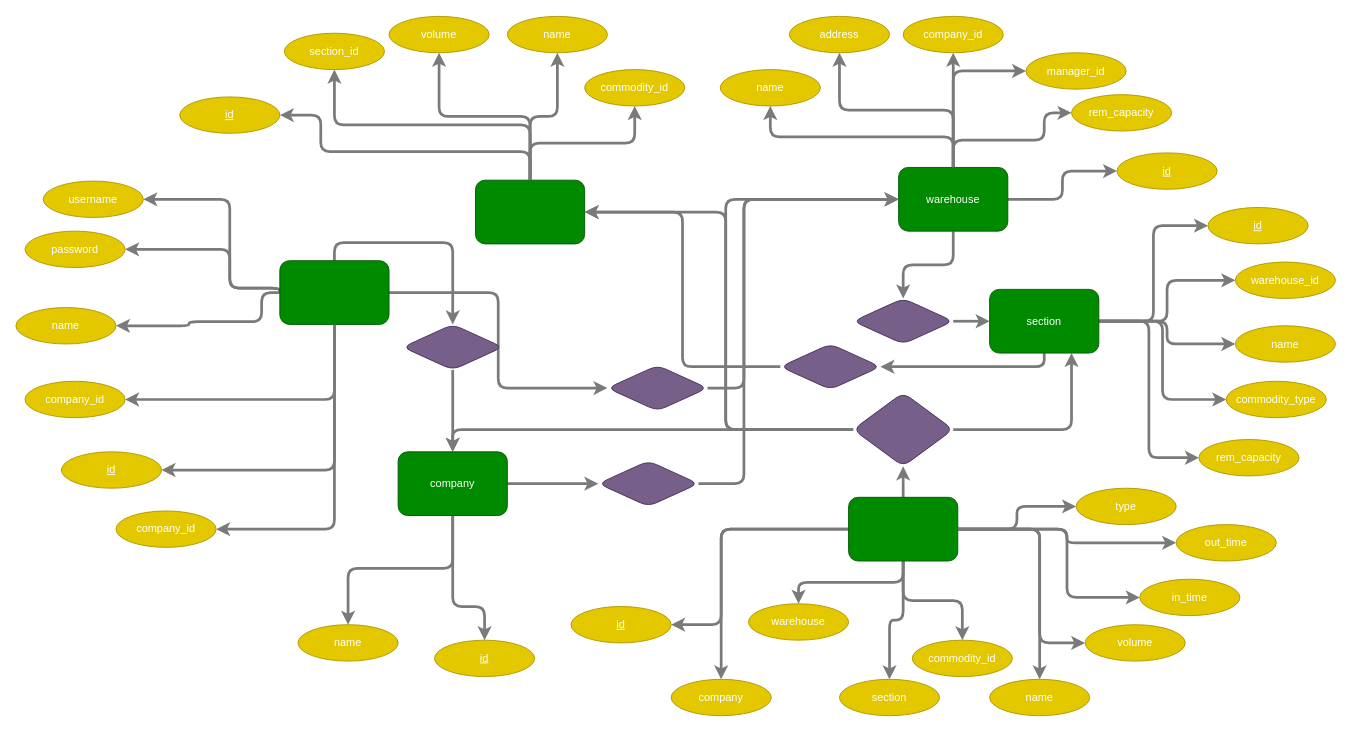
Image size: 1351x732. Some labels were removed from this diagram. The shapes that lost their labels are listed below. From the top down, each one's centre as x and y in pixels, then its label:
(530,211): commodity
(334,292): employee
(902,321): divided into
(452,347): employee of
(829,366): contains
(657,387): manages
(902,429): tracks in/out info from
(647,483): owns
(903,528): inout_records
